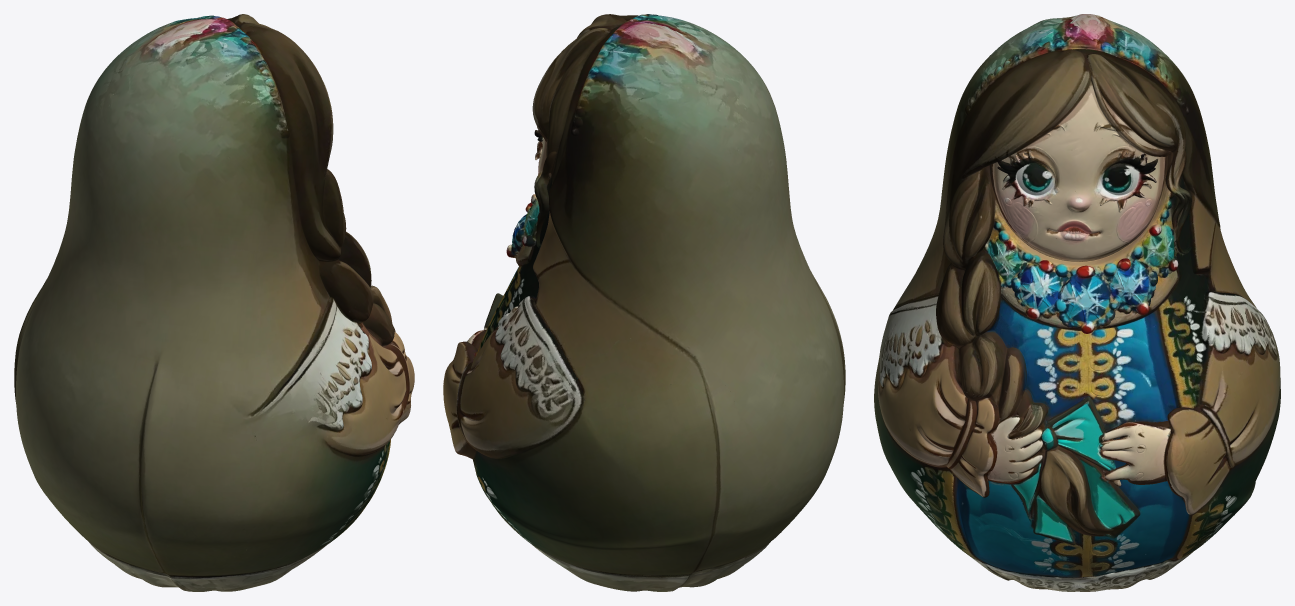
File: matryoshka-malachite.glb
3 renders of one model, left to right at view 1: azimuth 30°, elevation 25°; view 2: azimuth 150°, elevation 25°; view 3: azimuth 270°, elevation 25°, orthographic.
Visible parts, largest first — view 1: tripo_part_0, tripo_part_4, tripo_part_5, tripo_part_2, tripo_part_3; view 2: tripo_part_0, tripo_part_2, tripo_part_1, tripo_part_4, tripo_part_3; view 3: tripo_part_0, tripo_part_1, tripo_part_2, tripo_part_5, tripo_part_6, tripo_part_3.
Boxes of the visible parts, x1=… form: tripo_part_0: x1=17, y1=14, x2=395, y2=479; tripo_part_4: x1=16, y1=279, x2=262, y2=576; tripo_part_5: x1=248, y1=297, x2=414, y2=456; tripo_part_2: x1=14, y1=305, x2=390, y2=575; tripo_part_3: x1=89, y1=542, x2=326, y2=591; tripo_part_0: x1=532, y1=14, x2=845, y2=489; tripo_part_2: x1=472, y1=293, x2=728, y2=575; tripo_part_1: x1=443, y1=170, x2=585, y2=458; tripo_part_4: x1=578, y1=338, x2=845, y2=566; tripo_part_3: x1=532, y1=542, x2=770, y2=591; tripo_part_0: x1=893, y1=14, x2=1251, y2=483; tripo_part_1: x1=985, y1=179, x2=1280, y2=514; tripo_part_2: x1=874, y1=330, x2=1280, y2=578; tripo_part_5: x1=878, y1=294, x2=1003, y2=497; tripo_part_6: x1=1099, y1=421, x2=1171, y2=486; tripo_part_3: x1=970, y1=552, x2=1192, y2=591.
Size of the model in its own units: 0.6774 by 1 by 0.6955.
Materials: 7 (7 with a texture image).
